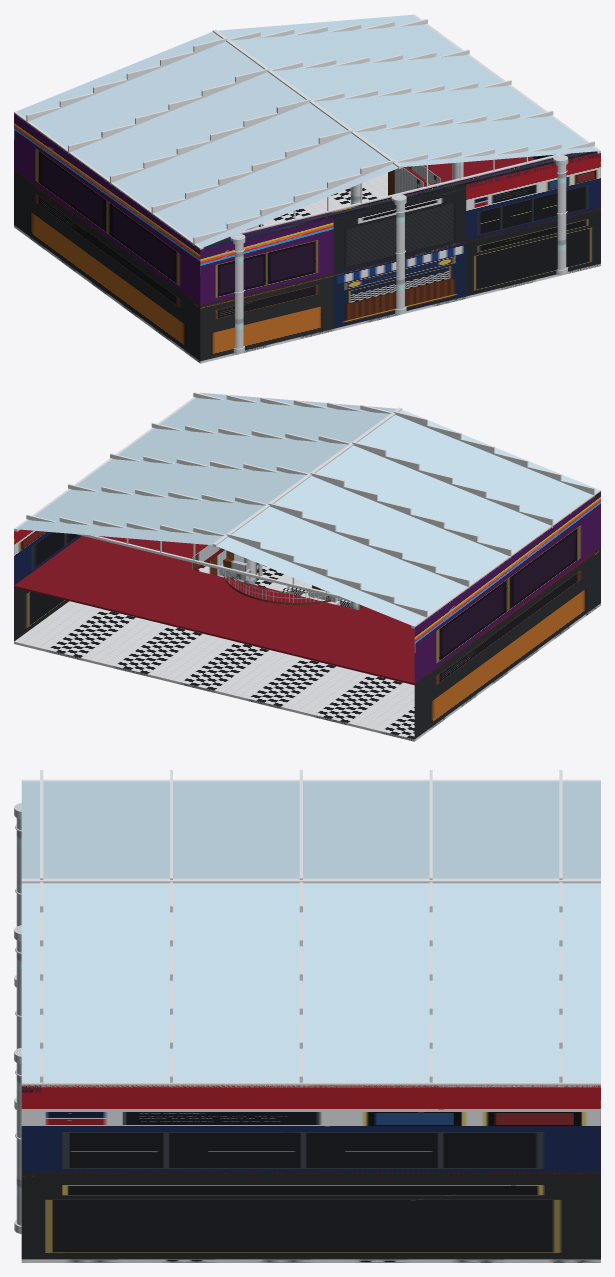
The model's file is Starcourt_Mall.obj.
3 views of the same model, one above another, from view 1: azimuth 30°, elevation 25°; view 2: azimuth 150°, elevation 25°; view 3: azimuth 270°, elevation 25° (orthographic). The views are drawn at different scales.
Parts seen in each view (by area): view 1: Starcourt_Glass, Starcourt_Storefronts_Upper, Starcourt_Storefronts_Lower, Starcourt_Roof_Truss, Starcourt_Pillars, Starcourt_Floors_Tiles, Starcourt_Floors_Carpet, Starcourt_Railings_Escalators; view 2: Starcourt_Glass, Starcourt_Floors_Carpet, Starcourt_Floors_Tiles, Starcourt_Roof_Truss, Starcourt_Storefronts_Upper, Starcourt_Storefronts_Lower, Starcourt_Railings_Escalators; view 3: Starcourt_Glass, Starcourt_Storefronts_Lower, Starcourt_Storefronts_Upper, Starcourt_Roof_Truss, Starcourt_Pillars, Starcourt_Floors_Tiles, Starcourt_Floors_Carpet.
Part boxes in pixels (x1,y1,x2,y2): Starcourt_Glass: (16,15,598,247); Starcourt_Storefronts_Upper: (14,113,600,305); Starcourt_Storefronts_Lower: (14,169,600,361); Starcourt_Roof_Truss: (14,14,600,249); Starcourt_Pillars: (230,155,568,353); Starcourt_Floors_Tiles: (14,172,600,363); Starcourt_Floors_Carpet: (14,156,600,305); Starcourt_Railings_Escalators: (259,165,440,226); Starcourt_Glass: (16,393,598,625); Starcourt_Floors_Carpet: (14,536,594,685); Starcourt_Floors_Tiles: (14,561,600,741); Starcourt_Roof_Truss: (14,392,600,628); Starcourt_Storefronts_Upper: (14,491,600,682); Starcourt_Storefronts_Lower: (14,547,600,738); Starcourt_Railings_Escalators: (192,545,363,610); Starcourt_Glass: (21,781,600,1081); Starcourt_Storefronts_Lower: (21,1172,600,1259); Starcourt_Storefronts_Upper: (21,1085,600,1172); Starcourt_Roof_Truss: (21,770,600,1087); Starcourt_Pillars: (14,803,21,1233); Starcourt_Floors_Tiles: (21,1259,600,1262); Starcourt_Floors_Carpet: (22,1172,600,1174).
Bounding box in the file's own units: 36 × 12.85 × 29.38.
9 materials, 9 textured.
